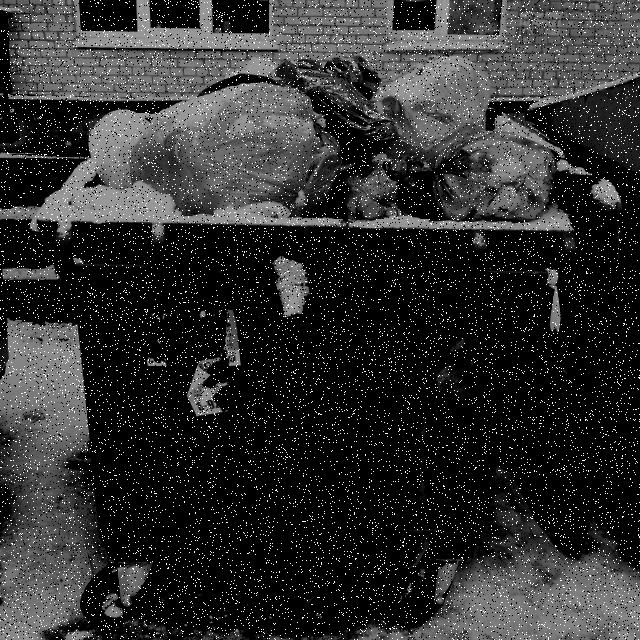Trashcan: (41, 0, 617, 634)
